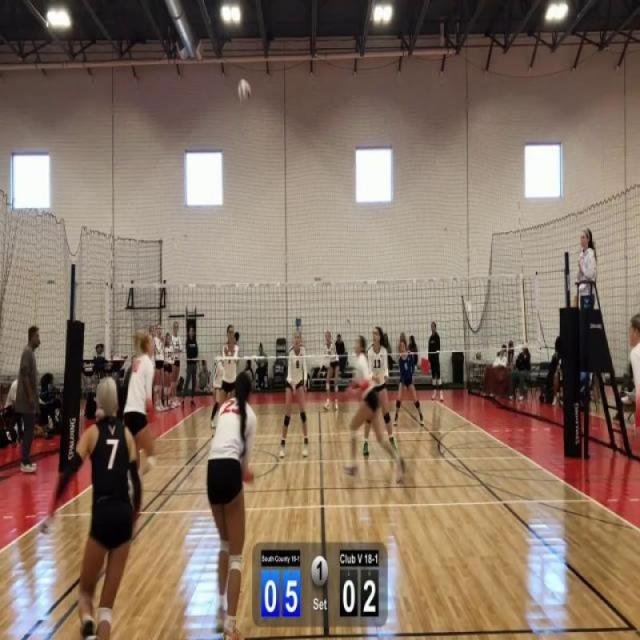volleyball: (236, 78, 252, 106)
